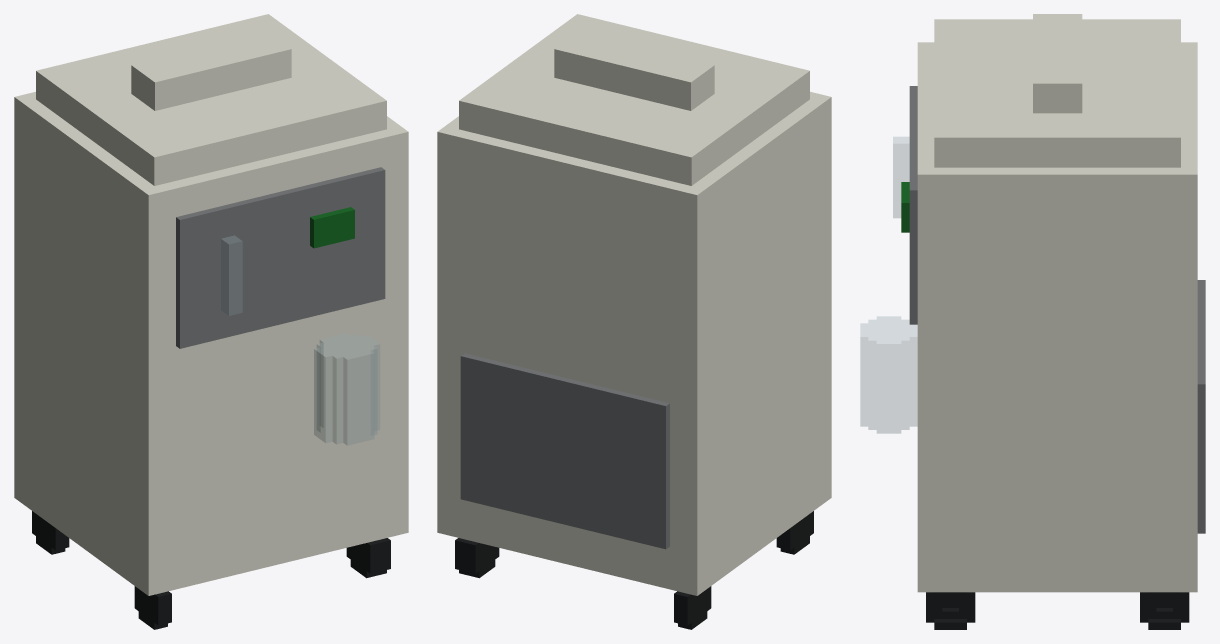
File: oxygen_concentrator.glb
The picture shows the model from 3 angles, left to right: view 1: azimuth 30°, elevation 25°; view 2: azimuth 150°, elevation 25°; view 3: azimuth 270°, elevation 25°; orthographic projection. The views are drawn at different scales.
Visible parts, largest first — view 1: oxygen_concentrator:compound; view 2: oxygen_concentrator:compound; view 3: oxygen_concentrator:compound.
Boxes of the visible parts, x1,y1,x2,y2 form: oxygen_concentrator:compound: (14,14,408,629); oxygen_concentrator:compound: (437,14,831,629); oxygen_concentrator:compound: (860,14,1205,629).
Size of the model in its own units: 0.38 by 0.7 by 0.42.
